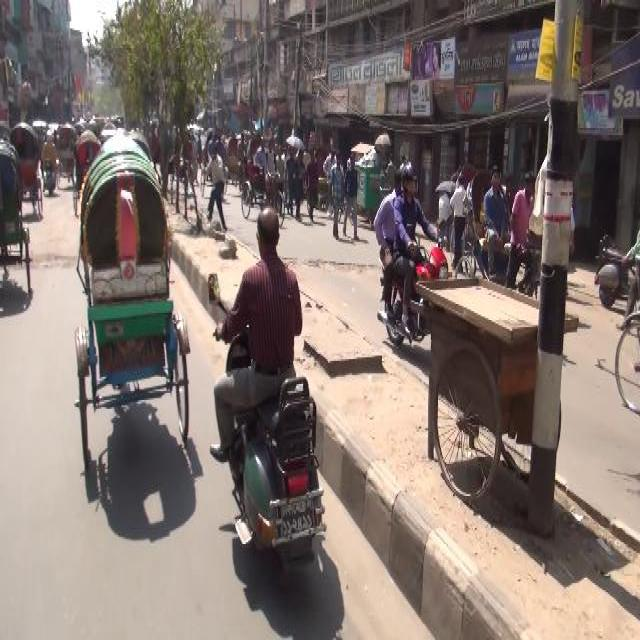bike: (208, 201, 329, 580), (375, 166, 451, 367), (41, 126, 61, 200)
vehicle: (70, 129, 193, 474), (1, 142, 35, 302), (240, 133, 288, 225), (10, 123, 44, 228), (355, 152, 393, 230), (312, 146, 336, 222), (224, 135, 245, 194)
